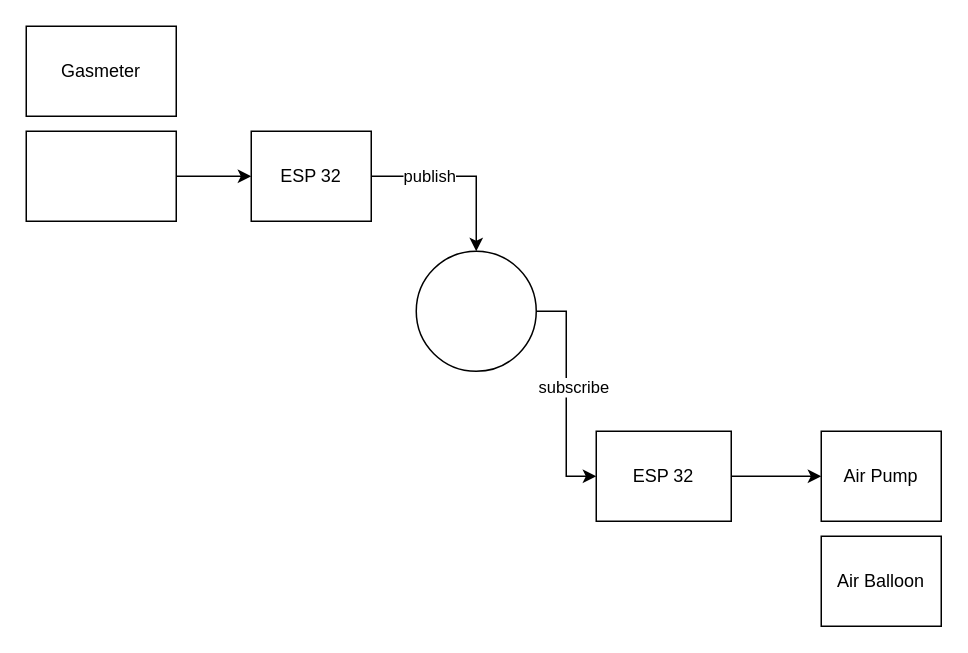
The diagram is 968 pixels wide and 653 high, and some of its shapes have lost their labels. The shapes that lost their labels are listed below. From the top down, each one's box as (x1, y1, x2, y2) in pixels, then its label:
(25, 130, 176, 221): Piezo Sensor
(415, 250, 536, 371): Hive MQ
